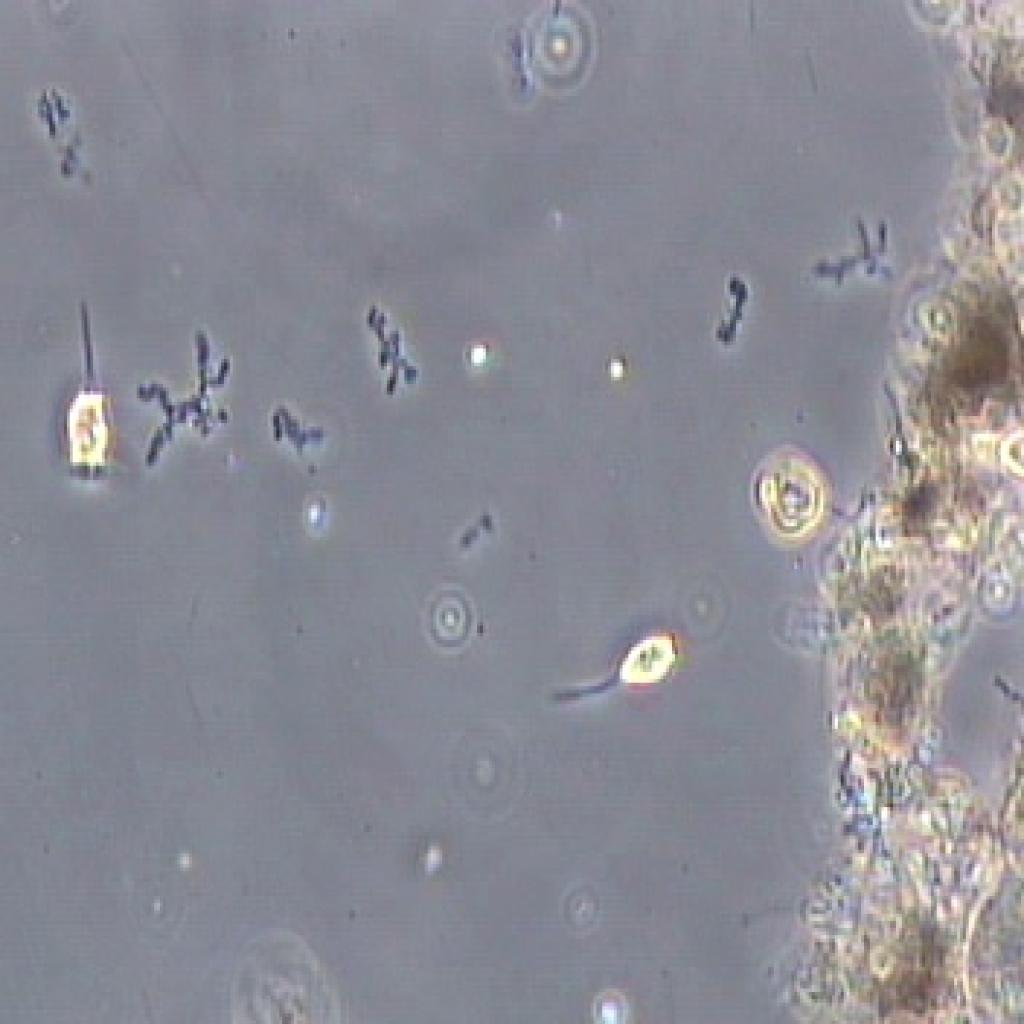Vorticella: (518, 599, 689, 731)
